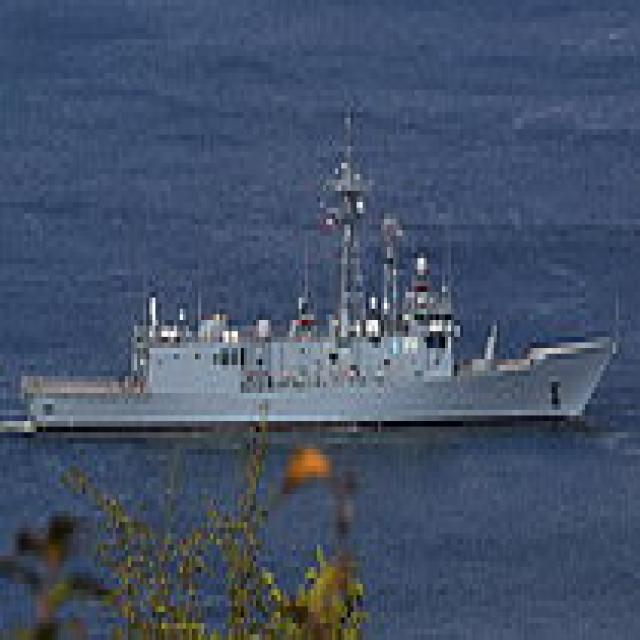Warship: (12, 95, 616, 432)
